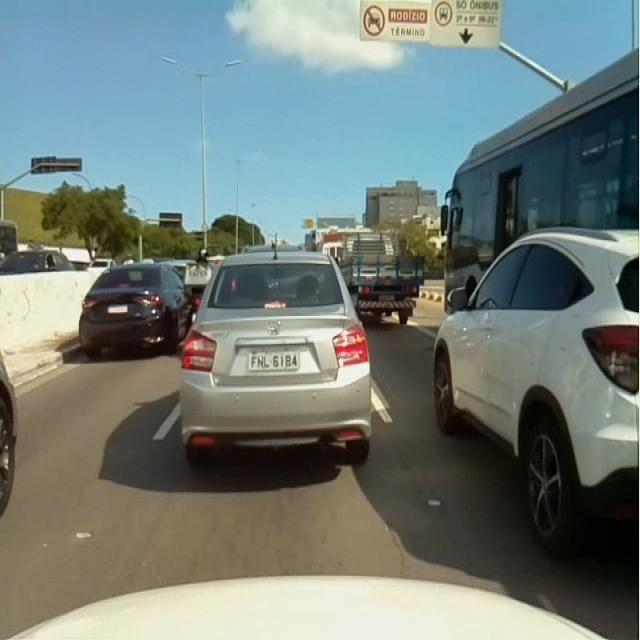bus: (445, 49, 640, 289)
car: (434, 229, 640, 556), (181, 251, 371, 463), (79, 265, 191, 355)
lorry: (305, 220, 424, 320)
